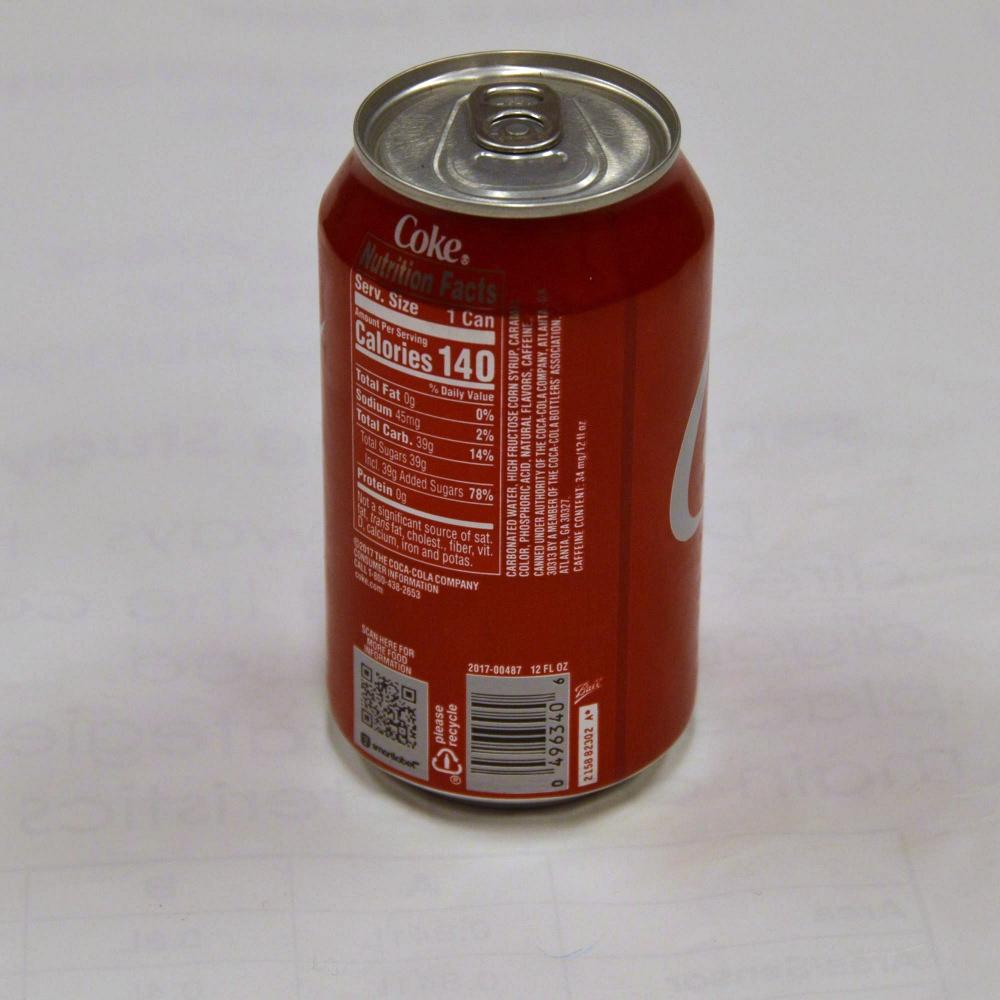Metal: (250, 53, 746, 873)
